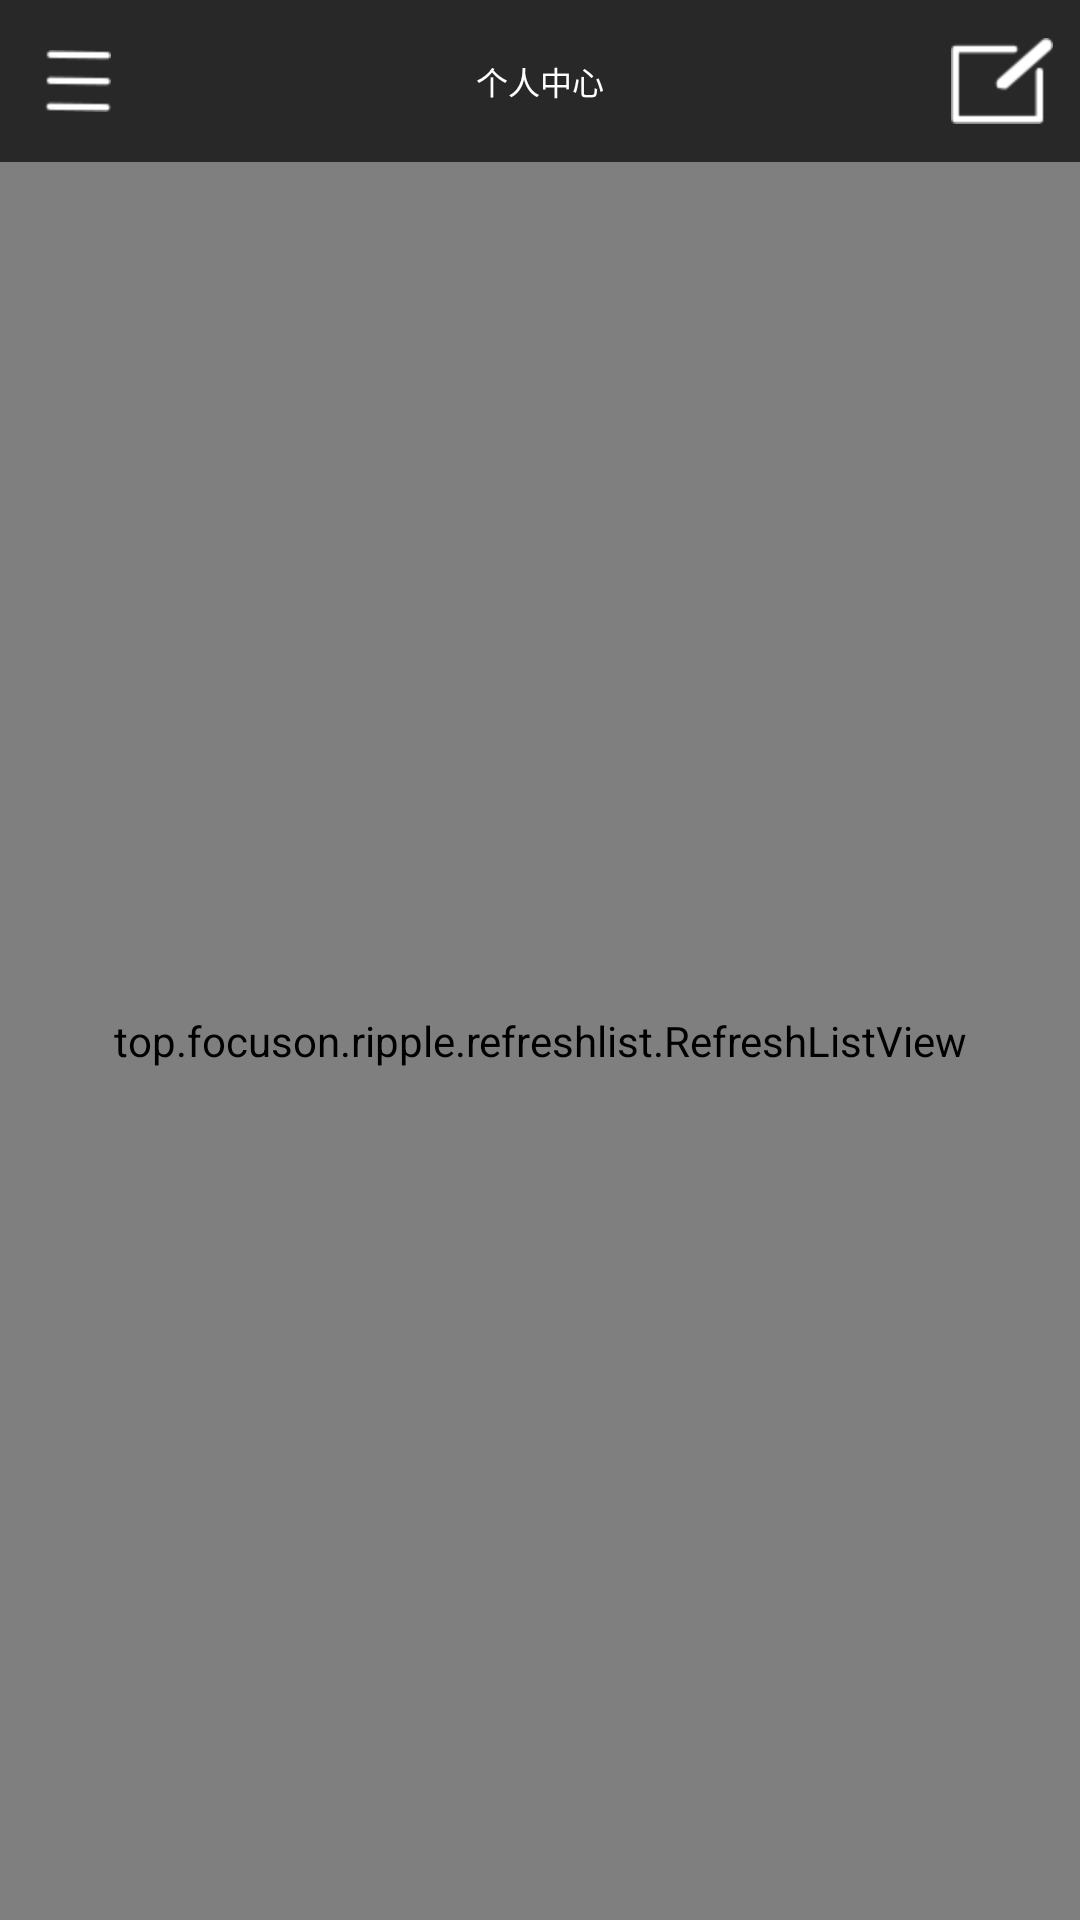

Where icons sit on this 1080 x 1920 app screen, as (x1, y1, x2, y2):
edit: (951, 38, 1053, 124)
menu: (46, 50, 111, 112)
